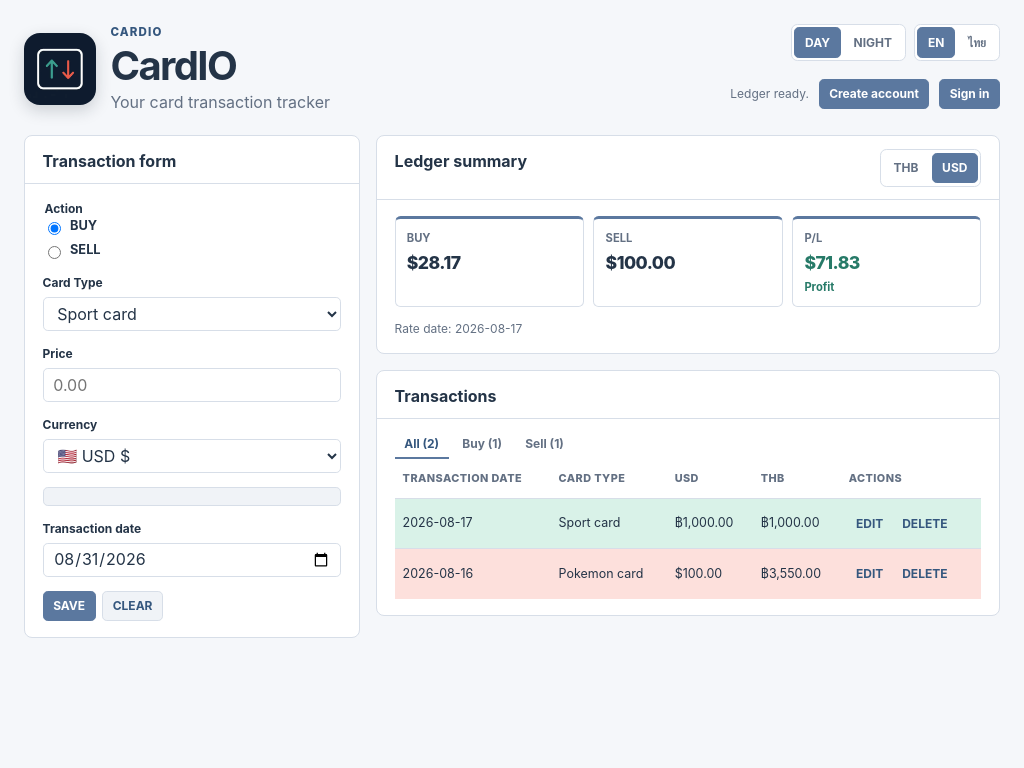
Test case: App › shows CardIO branding and lets users switch day/night and language
Expected: the heading "CardIO" is shown, [110,41,236,90]
Expected: the text "Your card transaction tracker" is shown, [110,91,330,114]
Click the button "NIGHT" at (873, 43), box [843,27,903,58]
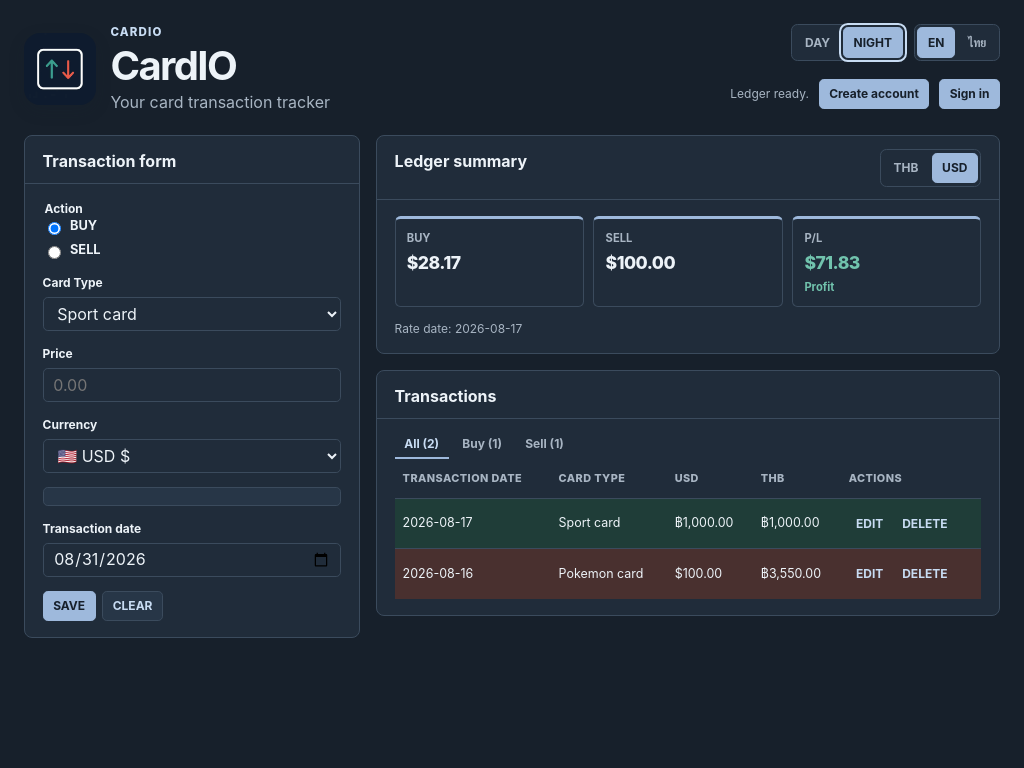
Expected: the element that starts with "CardIO" has attribute data-theme="night"
Click the button "ไทย" at (977, 43), box [958,27,997,58]
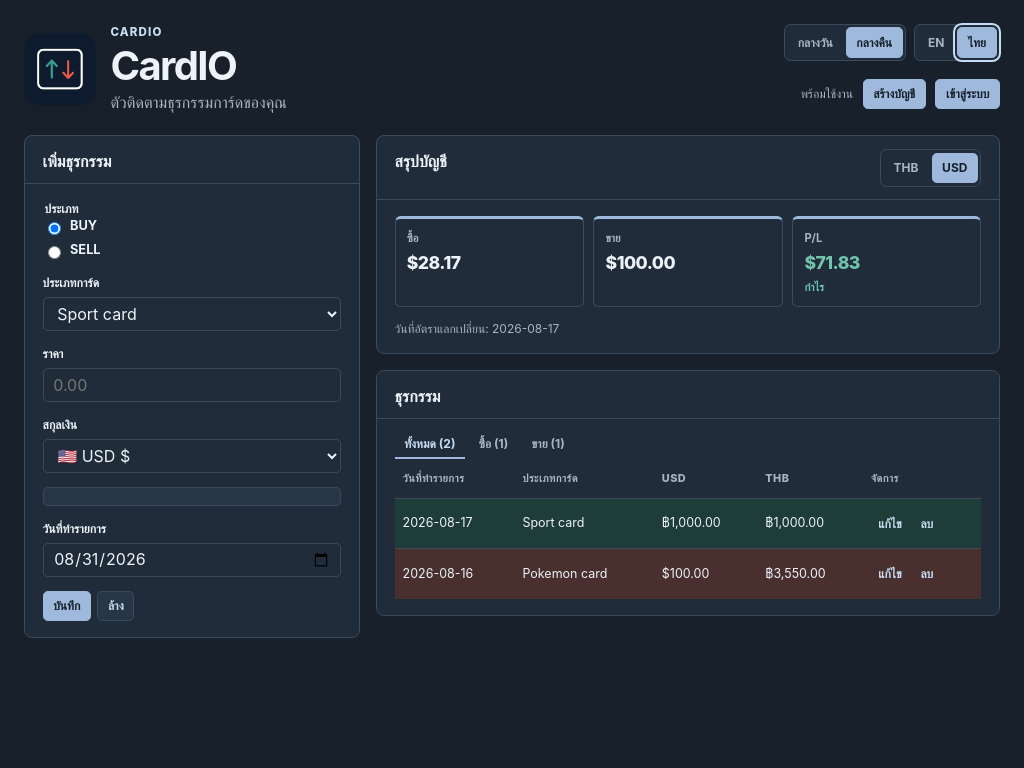
Expected: the heading "เพิ่มธุรกรรม" is shown, [43,152,111,171]
Expected: the button "สร้างบัญชี" is shown, [863,79,926,109]
